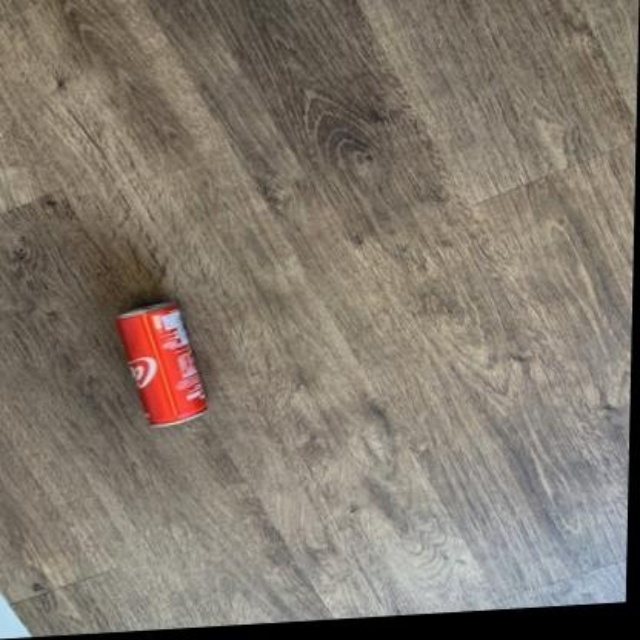trash: (117, 302, 206, 425)
